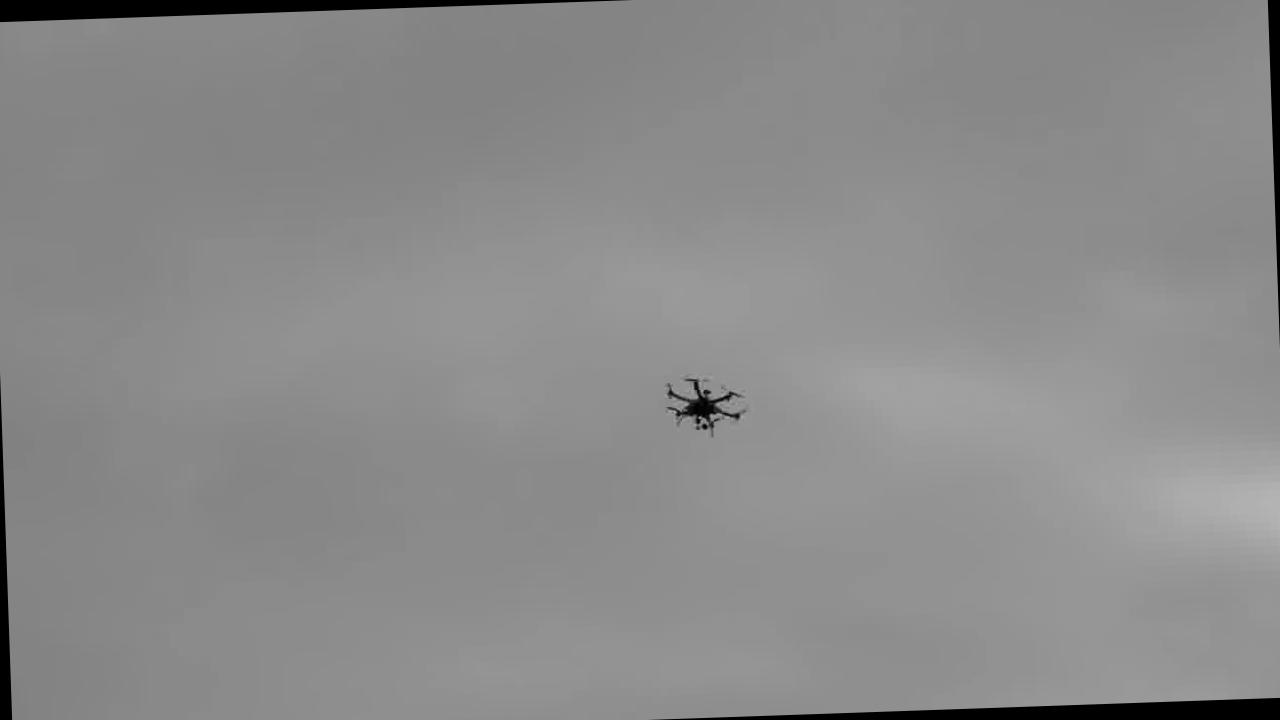drone: (660, 370, 744, 436)
